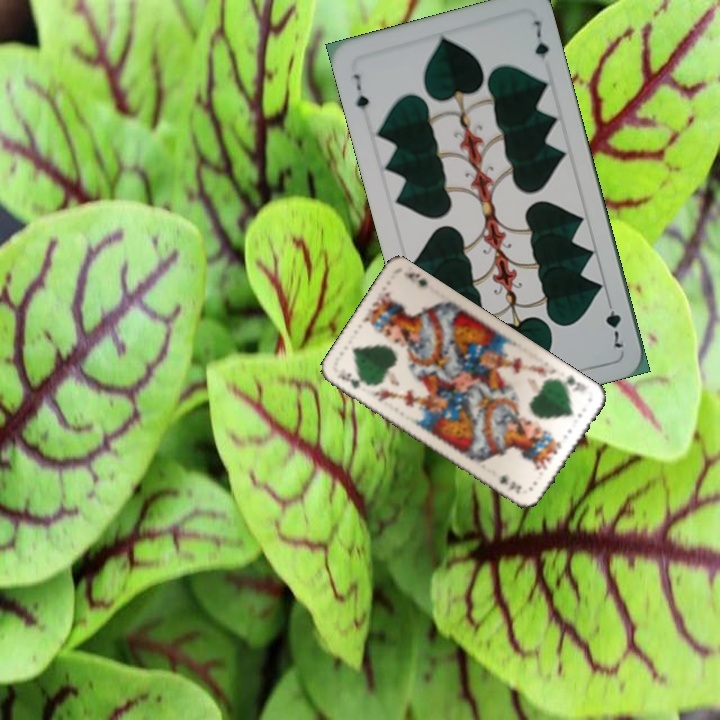G7: (601, 294, 629, 351), (349, 70, 372, 113)
GK: (333, 366, 371, 391), (554, 371, 588, 395)
